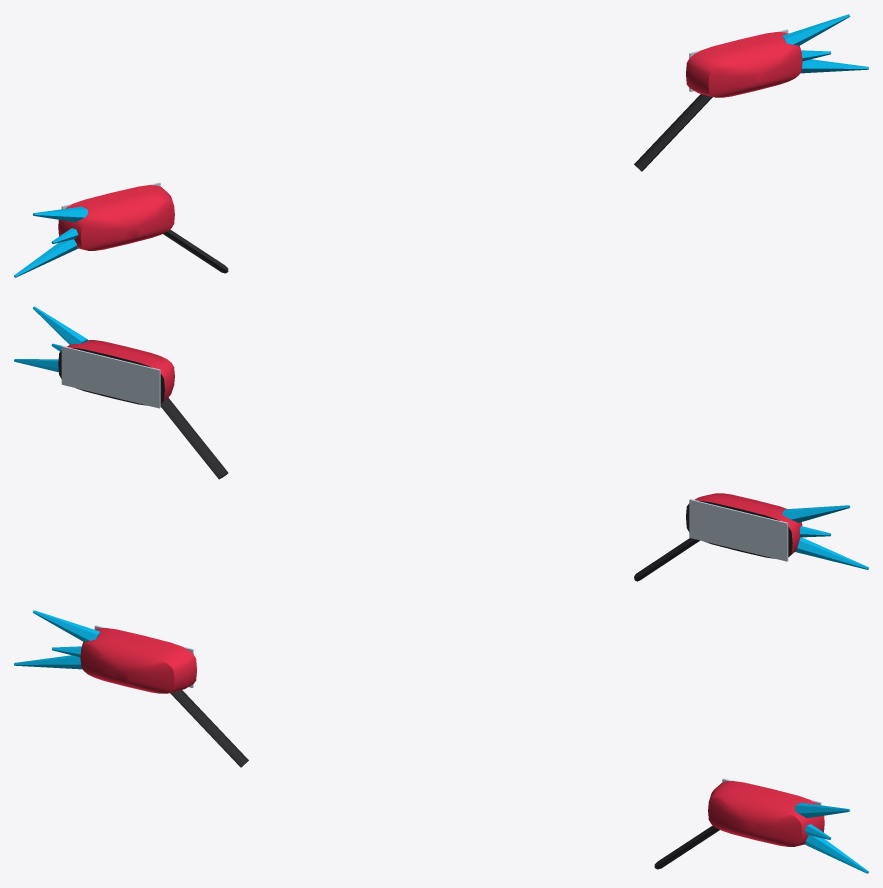
Rendered from spiked.glb.
The picture shows the model from 3 angles, top to bottom: view 1: azimuth 30°, elevation 25°; view 2: azimuth 150°, elevation 25°; view 3: azimuth 330°, elevation 25°; orthographic projection.
Parts seen in each view (by area): view 1: Mirrors_spiked; view 2: Mirrors_spiked, MirrorGlassL.004, MirrorGlassR.004; view 3: Mirrors_spiked.
Part boxes in pixels (x1,y1,x2,y2): Mirrors_spiked: (14,14,868,277); Mirrors_spiked: (14,306,868,581); MirrorGlassL.004: (61,346,160,408); MirrorGlassR.004: (689,499,788,561); Mirrors_spiked: (14,610,868,873).
Bounding box in the file's own units: 1.36 × 0.1758 × 0.0625.
